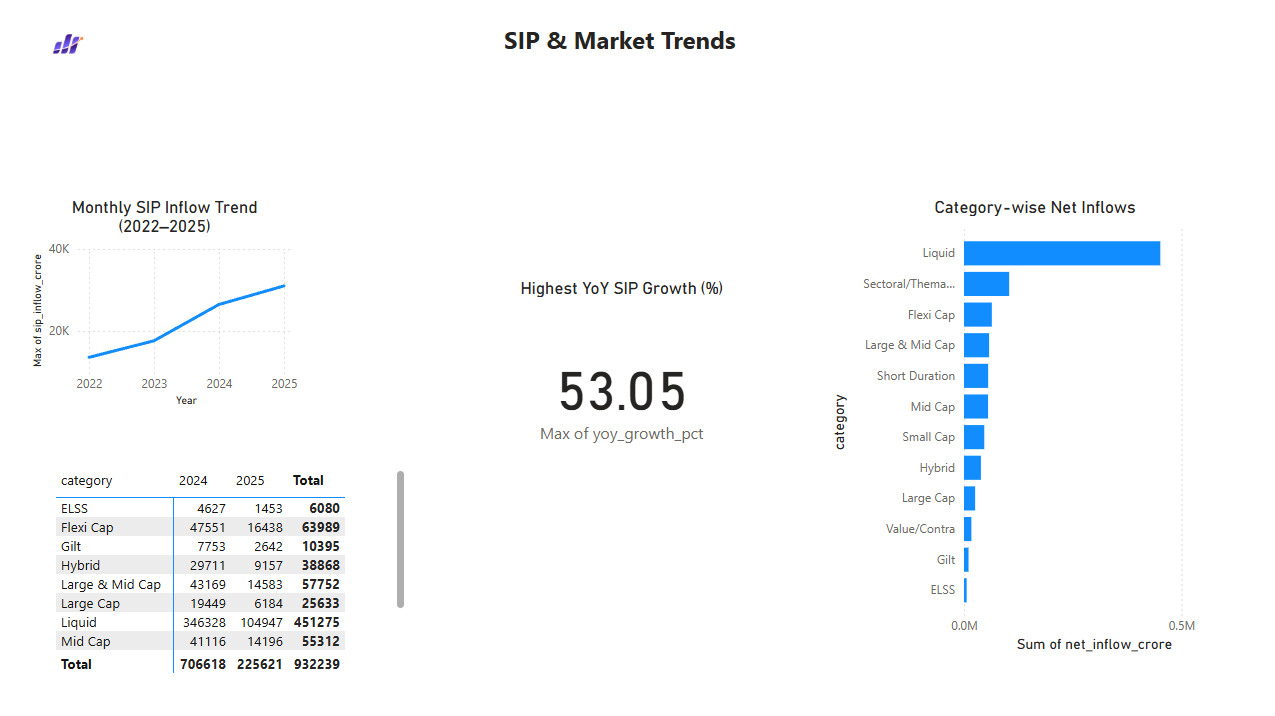

The page's visual inventory and layout, read from the dashboard file:
{"tool":"powerbi","page":{"name":"SIP & Market Trends","canvas":[1280,720],"ordinal":3},"visuals":[{"type":"lineChart","title":"Monthly SIP Inflow Trend (2022–2025)","fields":{"Category":["04_monthly_sip_inflows.month.Variation.Date Hierarchy.Year","04_monthly_sip_inflows.month.Variation.Date Hierarchy.Quarter","04_monthly_sip_inflows.month.Variation.Date Hierarchy.Month","04_monthly_sip_inflows.month.Variation.Date Hierarchy.Day"],"Y":["Max(04_monthly_sip_inflows.sip_inflow_crore)"]},"box":[29.2,198.4,274.6,214],"z":0},{"type":"card","title":"Highest YoY SIP Growth (%)","fields":{"Values":["Max(04_monthly_sip_inflows.yoy_growth_pct)"]},"box":[485.9,278.5,275,213.3],"z":1000},{"type":"barChart","title":"Category-wise Net Inflows","fields":{"Category":["05_category_inflows.category"],"Y":["Sum(05_category_inflows.net_inflow_crore)"]},"box":[828.4,197.9,417.2,459.9],"z":2000},{"type":"pivotTable","fields":{"Rows":["05_category_inflows.category"],"Columns":["05_category_inflows.month.Variation.Date Hierarchy.Year","05_category_inflows.month.Variation.Date Hierarchy.Quarter","05_category_inflows.month.Variation.Date Hierarchy.Month","05_category_inflows.month.Variation.Date Hierarchy.Day"],"Values":["Sum(05_category_inflows.net_inflow_crore)"]},"box":[53.3,465.8,359.1,213.3],"z":3000},{"type":"textbox","box":[501.3,19,276.1,45],"z":3001},{"type":"image","box":[20,20,100,50],"z":3002}]}

Visuals, with their boxes in screenshot pixels (x1, y1, x2, y2), scaled from the page's 1280x720 canvas onto the 1275x716 screenshot:
"Monthly SIP Inflow Trend (2022–2025)" lineChart: crop(29, 197, 303, 410)
"Highest YoY SIP Growth (%)" card: crop(484, 277, 758, 489)
"Category-wise Net Inflows" barChart: crop(825, 197, 1241, 654)
pivotTable - 05_category_inflows.category x 05_category_inflows.month.Variation.Date Hierarchy.Year: crop(53, 463, 411, 675)
textbox: crop(499, 19, 774, 64)
image: crop(20, 20, 120, 70)
